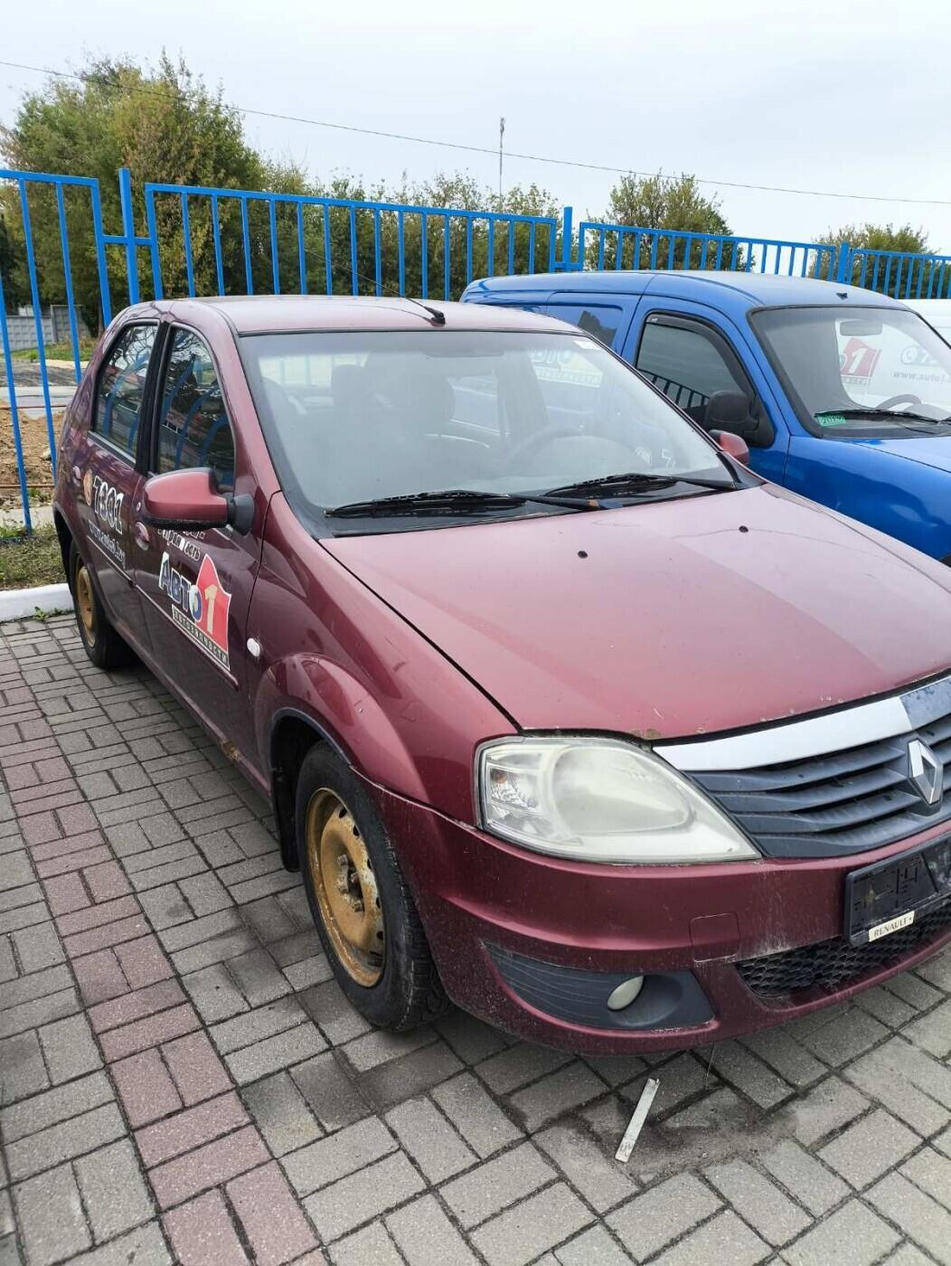Logan_2008-2015: (52, 289, 951, 1054)
